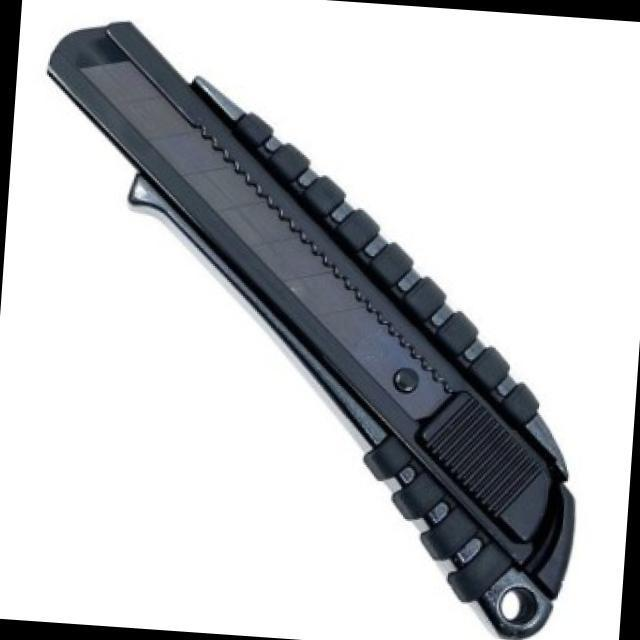cutter: (1, 0, 616, 640)
